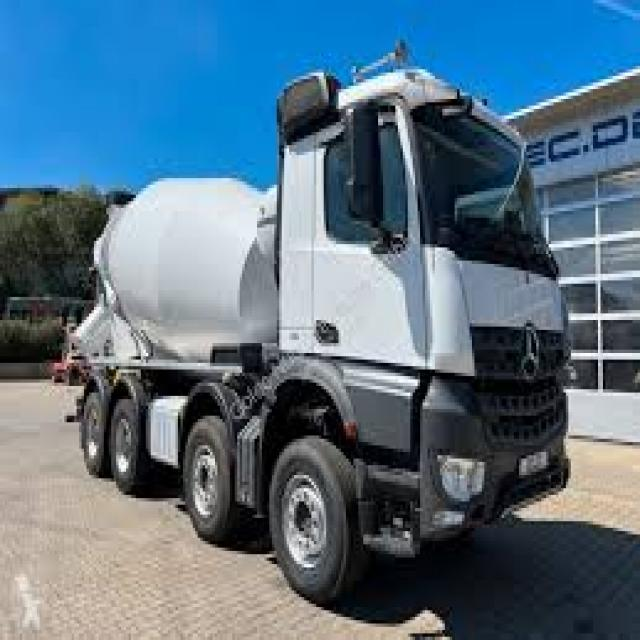Mixer Truck: (57, 38, 571, 608)
